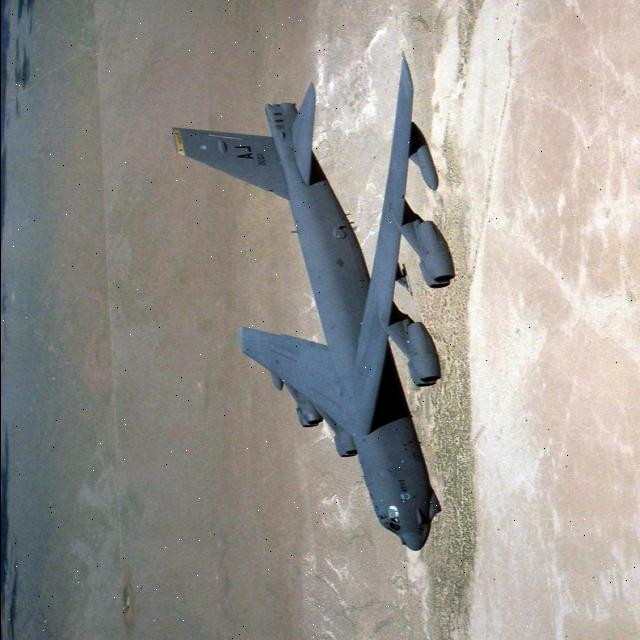B1: (100, 43, 494, 564)
